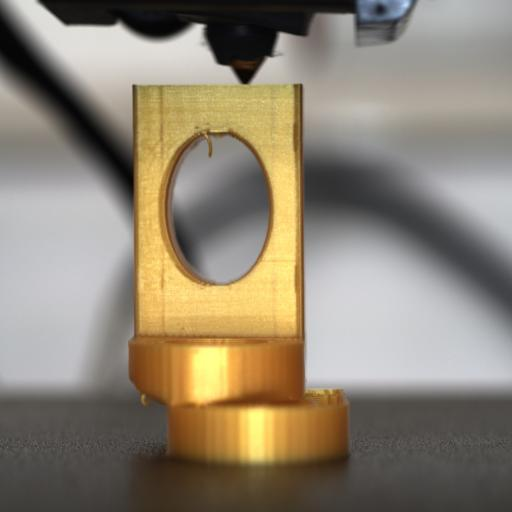layer_shift: (126, 378, 350, 415)
